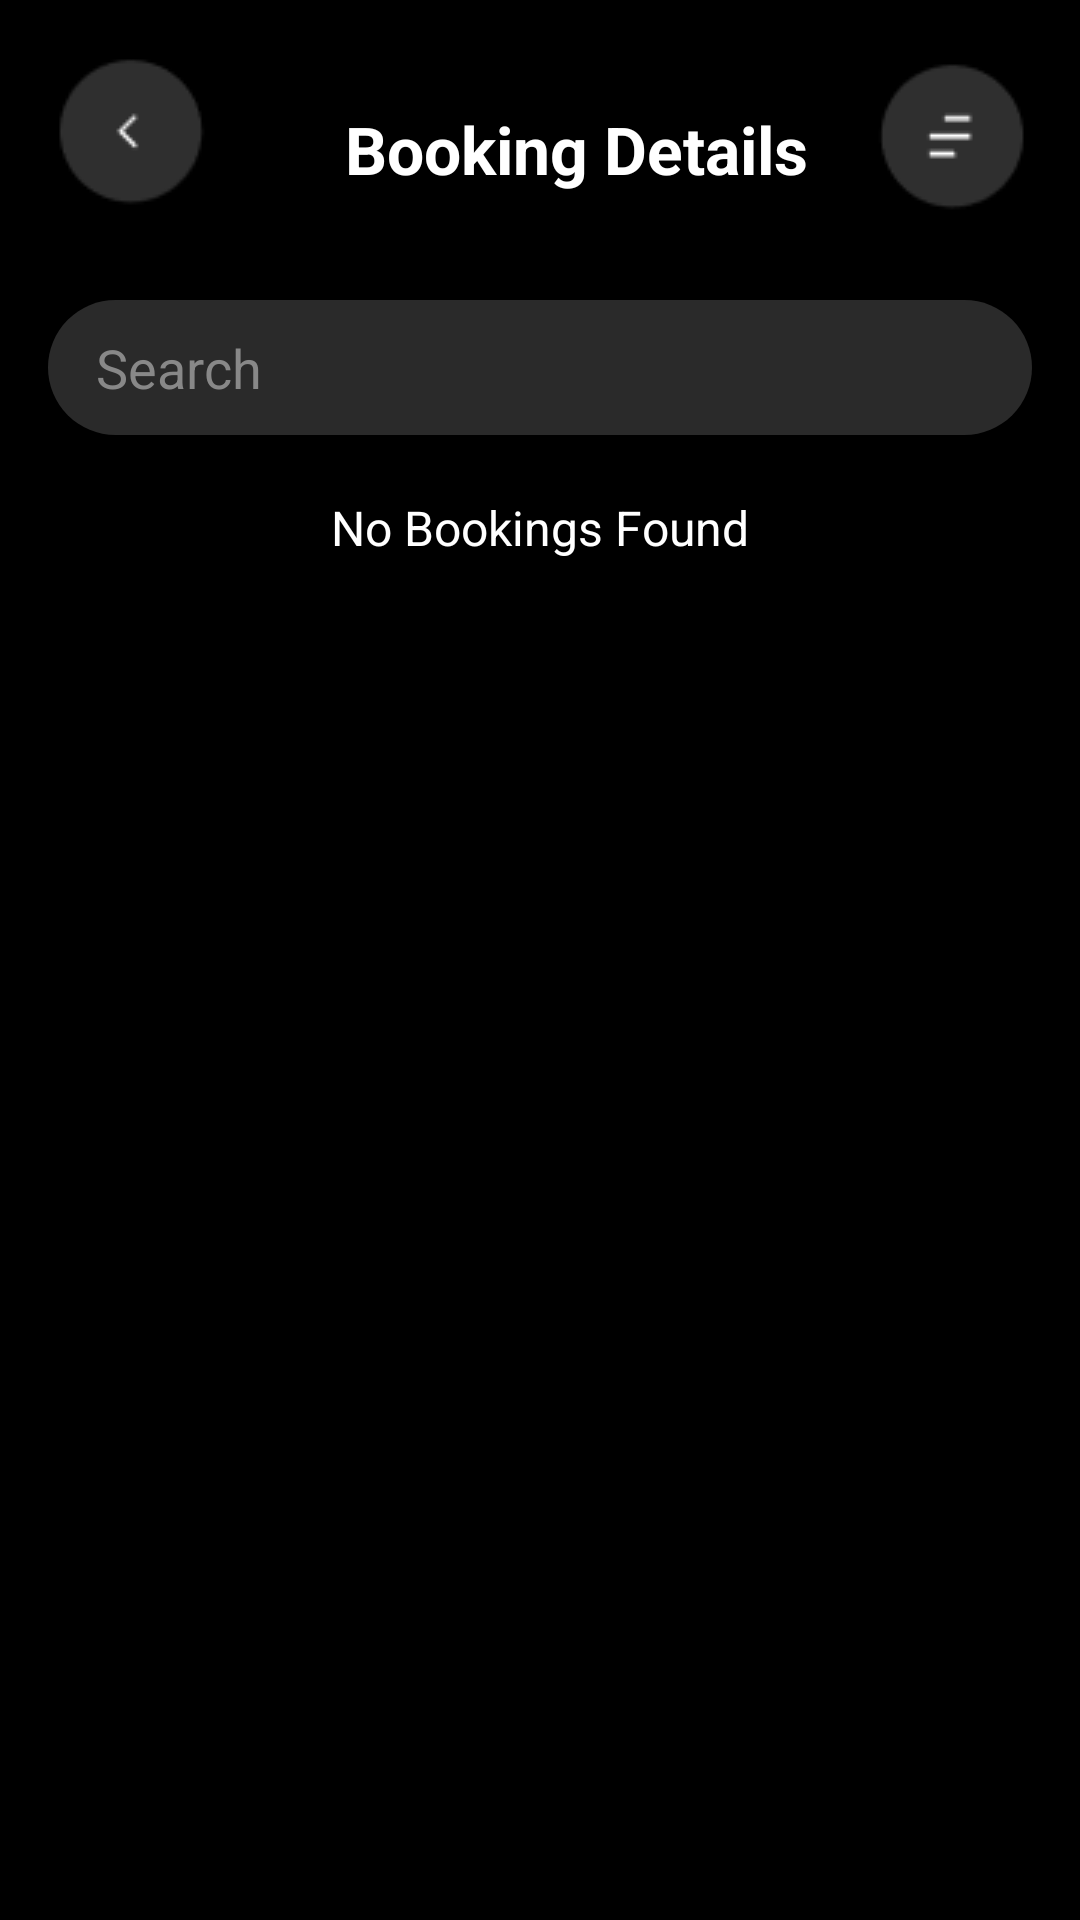

Point at icon controls on the screen. Image size 1080 x 1920, points as (x=x, y=y).
backticket: (x=130, y=131)
menuticket: (x=952, y=136)
